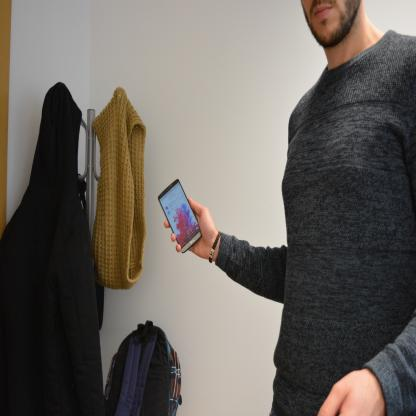smartphone: (157, 178, 202, 254)
